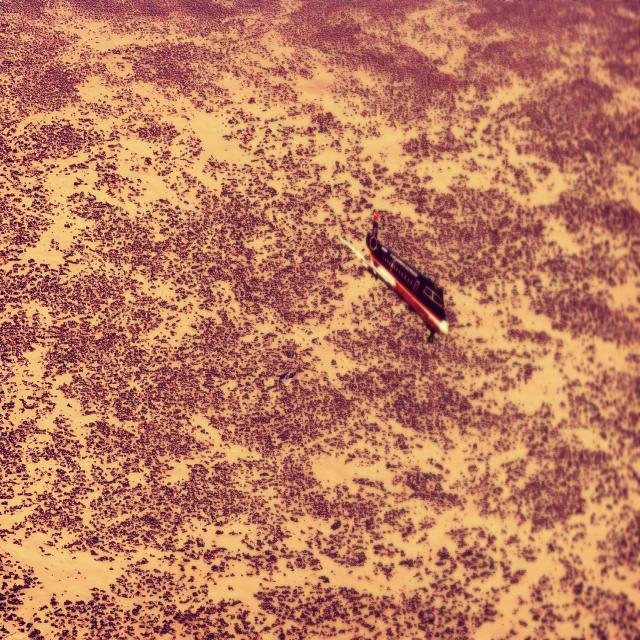airplane: (339, 209, 449, 337)
